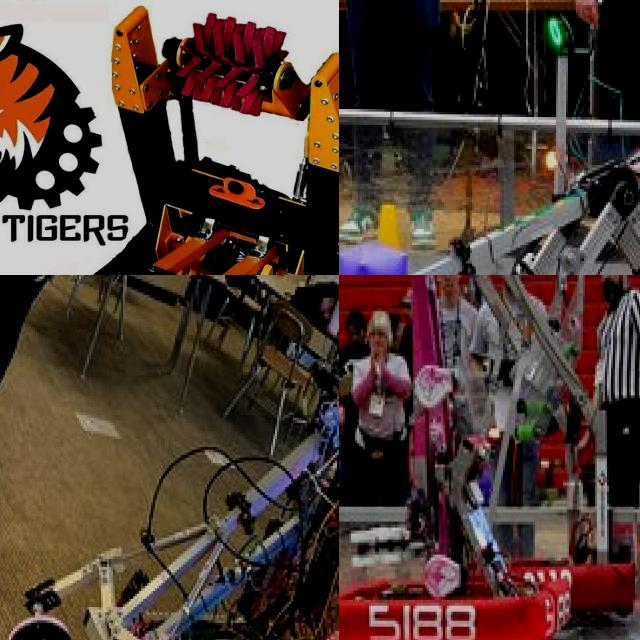FRC-Robots: (27, 279, 339, 640), (0, 4, 339, 275), (339, 275, 574, 640), (454, 275, 640, 631), (339, 108, 640, 275)
